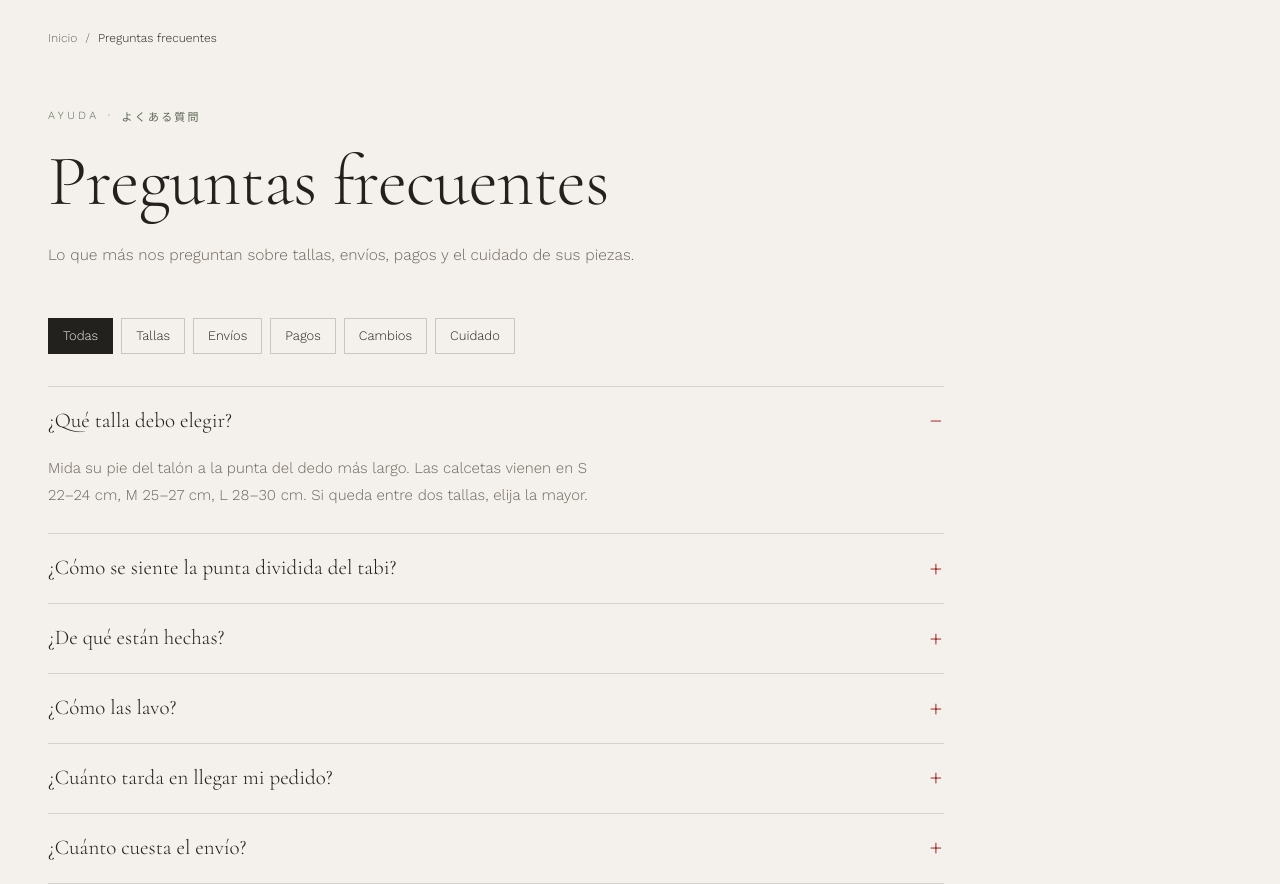
Scenario: Preguntas frecuentes › los chips filtran por tema y marcan el activo con aria-pressed
Later steps or results of the test are not shown.
Click the button "Tallas" at {"x": 153, "y": 336}, box [121,318,185,354]
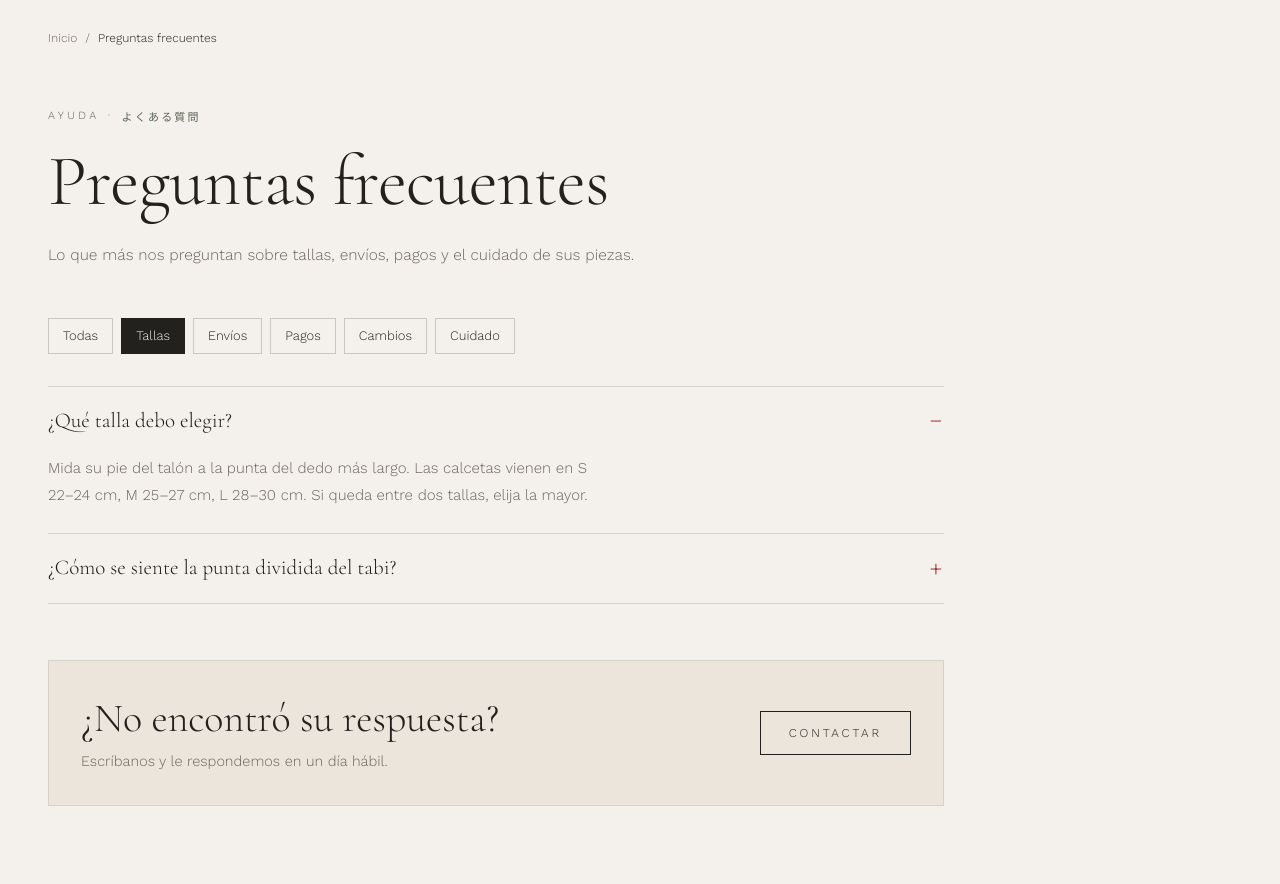
Expected: the button "Tallas" is pressed, [121,318,185,354]
Expected: the button "Todas" is not pressed, [48,318,113,354]
